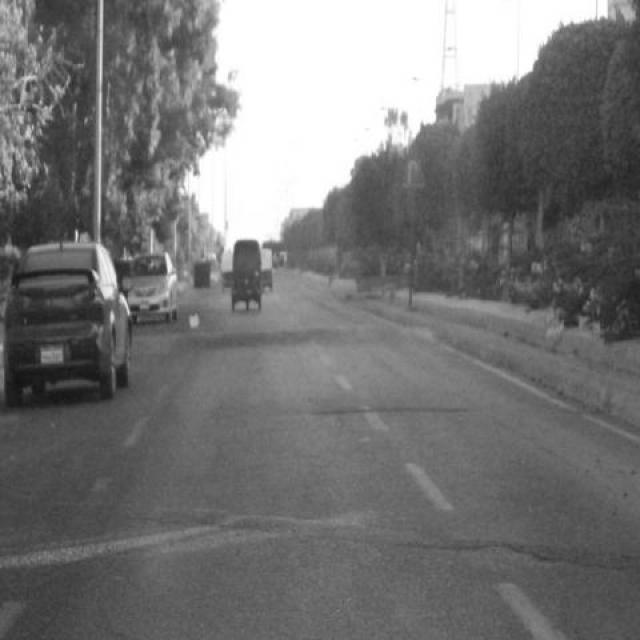Pothole: (420, 538, 587, 578), (317, 398, 474, 422)
Unmarked Bump: (132, 323, 435, 358)
